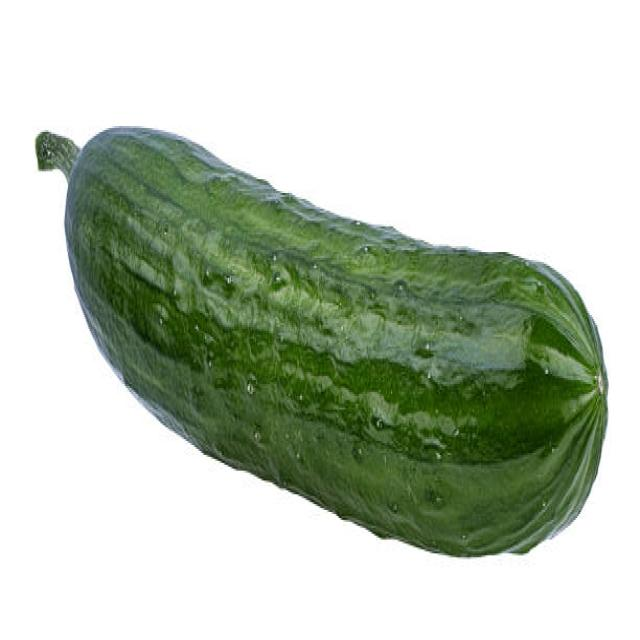cucumber: (62, 121, 609, 557)
